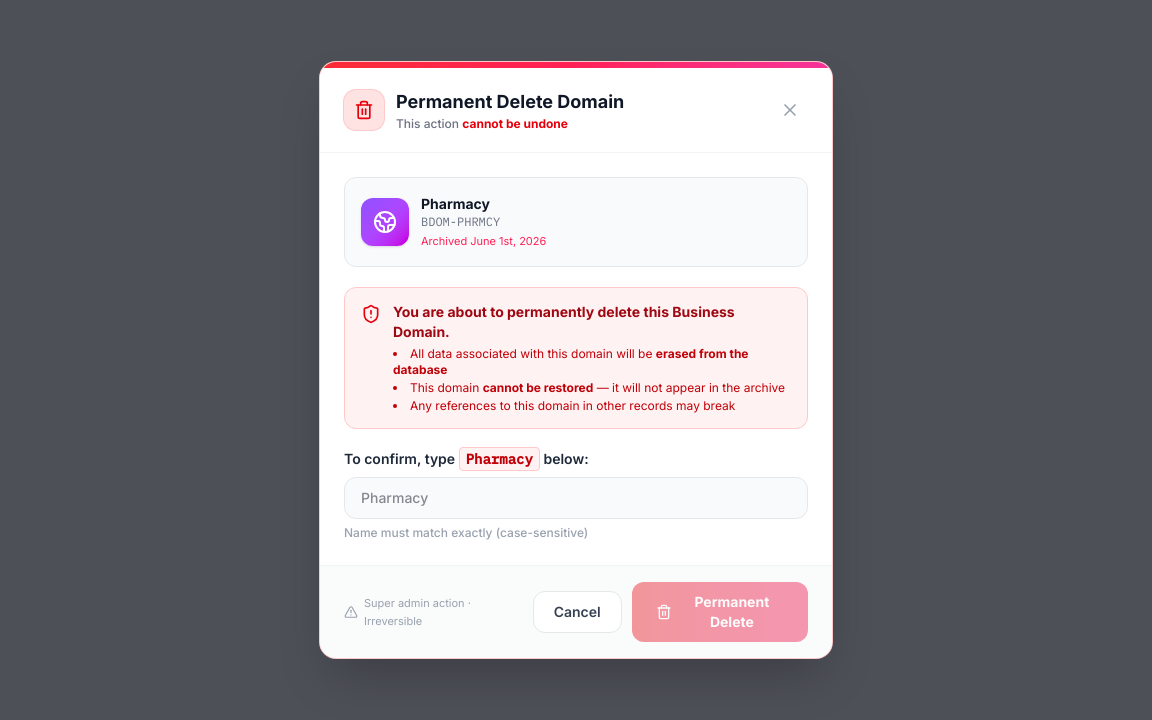
Test: BusinessDomainPermanentDeleteModal › Name confirmation logic › shows "Name does not match" hint for wrong input
Step 1. Type "wrong" into the field → (576, 498), box [344, 477, 808, 519]
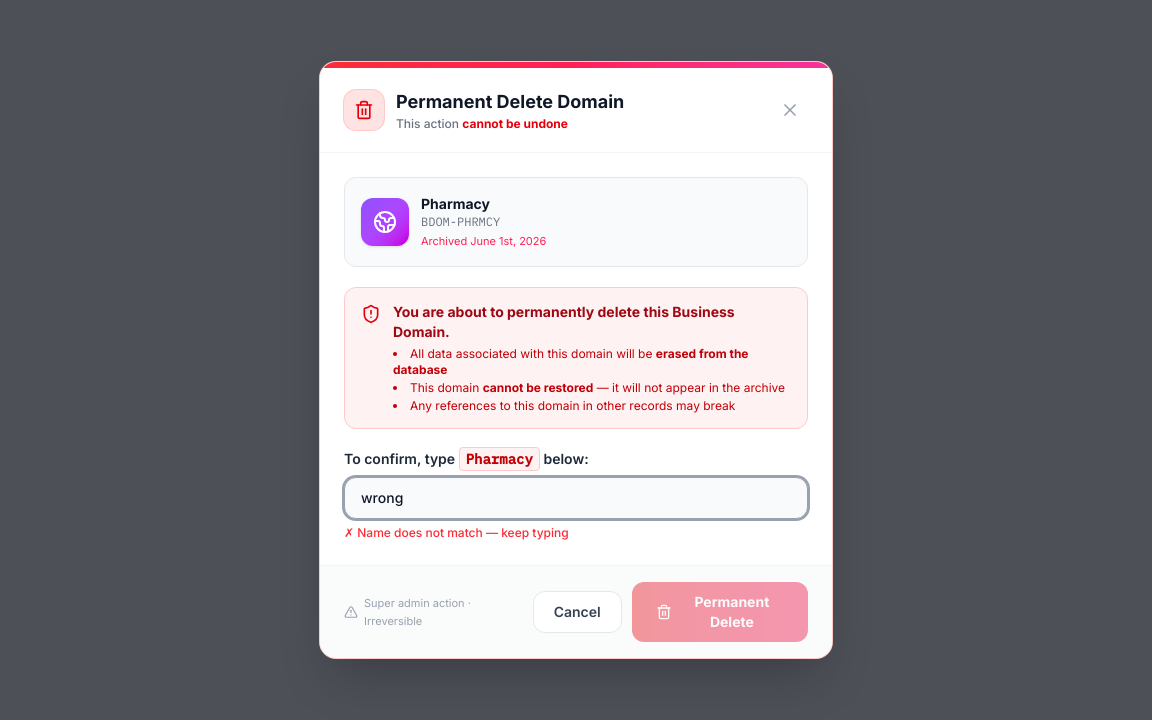
Result: the text "✗ Name does not match — keep typing" is shown at [344, 525, 569, 540]
